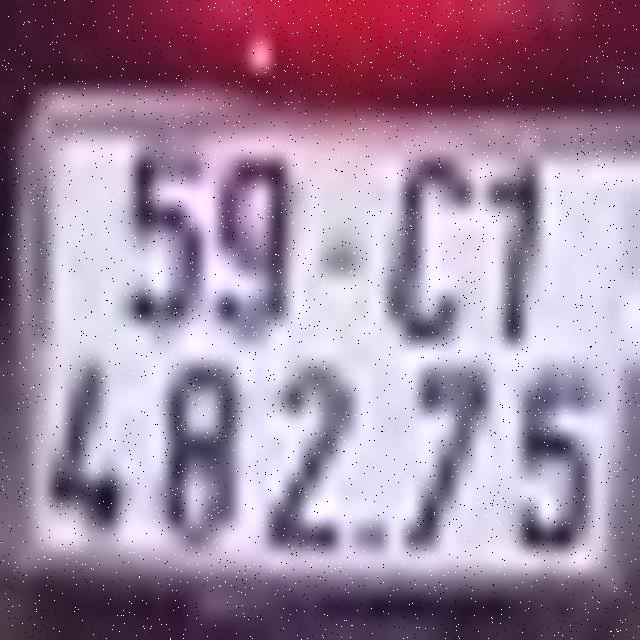1: (484, 152, 545, 347)
2: (266, 359, 352, 553)
4: (48, 360, 122, 536)
5: (515, 361, 599, 554), (127, 146, 205, 331)
7: (400, 358, 491, 554)
8: (166, 361, 237, 549)
9: (216, 153, 290, 341)
C: (385, 150, 475, 343)
